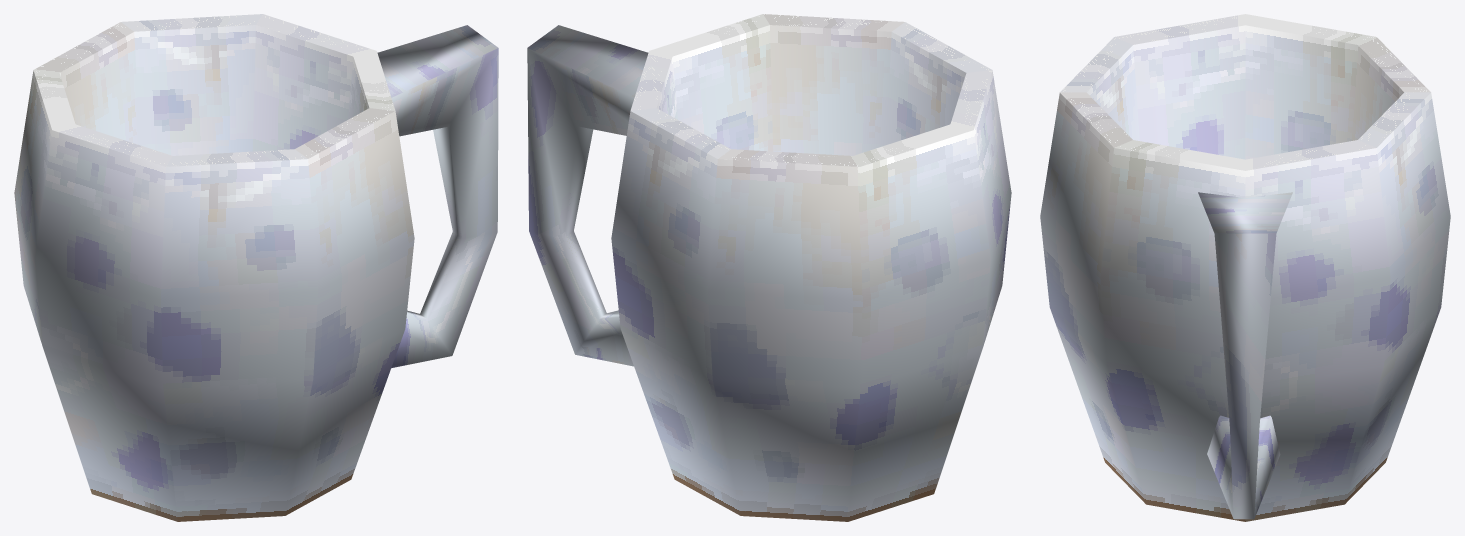
Rendered from GameReady_Mug.fbx.
3 renders of one model, left to right at view 1: azimuth 30°, elevation 25°; view 2: azimuth 150°, elevation 25°; view 3: azimuth 270°, elevation 25°, orthographic.
Parts seen in each view (by area): view 1: cup; view 2: cup; view 3: cup.
Boxes of the visible parts, bbox=[...] form: cup: bbox=[14, 14, 498, 521]; cup: bbox=[527, 14, 1011, 521]; cup: bbox=[1040, 14, 1450, 521].
Size of the model in its own units: 3802 by 2985 by 3000.
Materials: 1 (1 with a texture image).
